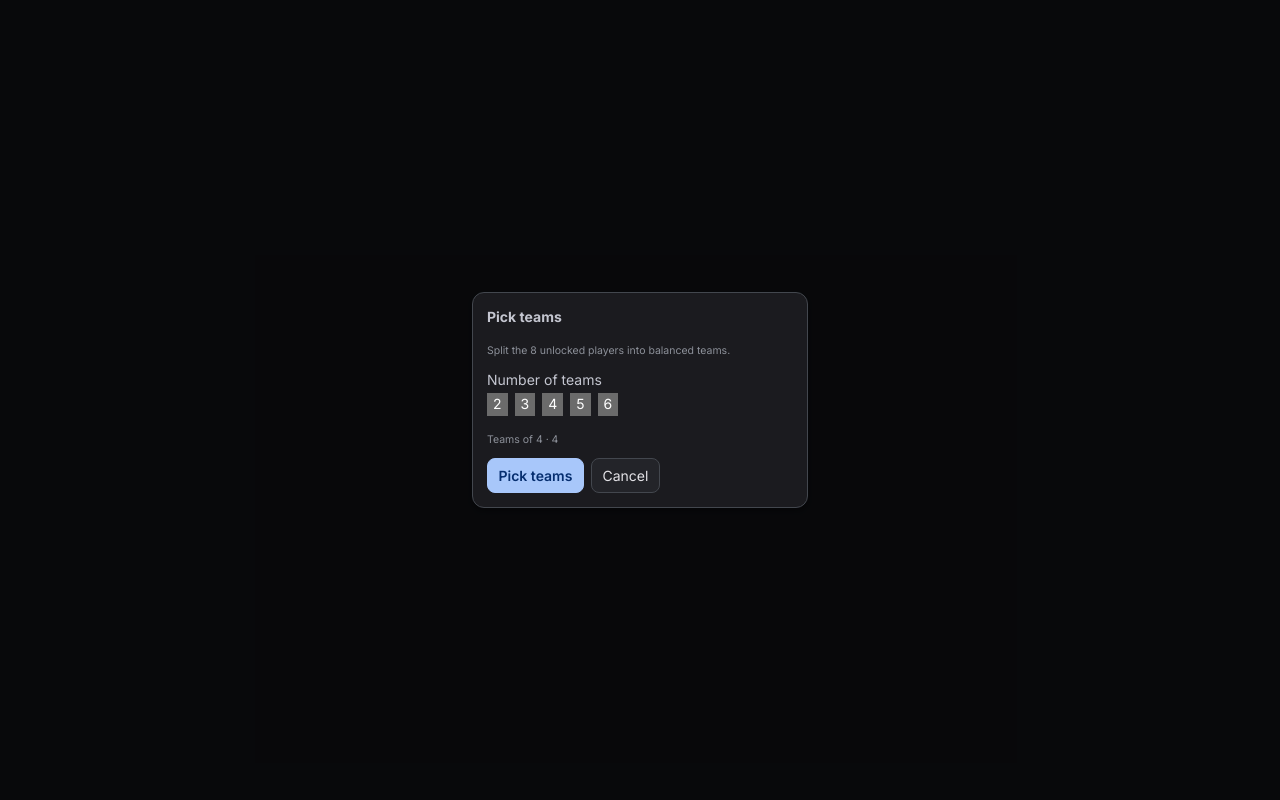
it: BasketballPickTeamsDialog › previews the even split the balancer will produce
Expected: the text "Teams of 4 · 4" is shown, [487, 433, 558, 446]
Click the button "3".
click(525, 405)  # box [514, 394, 535, 416]
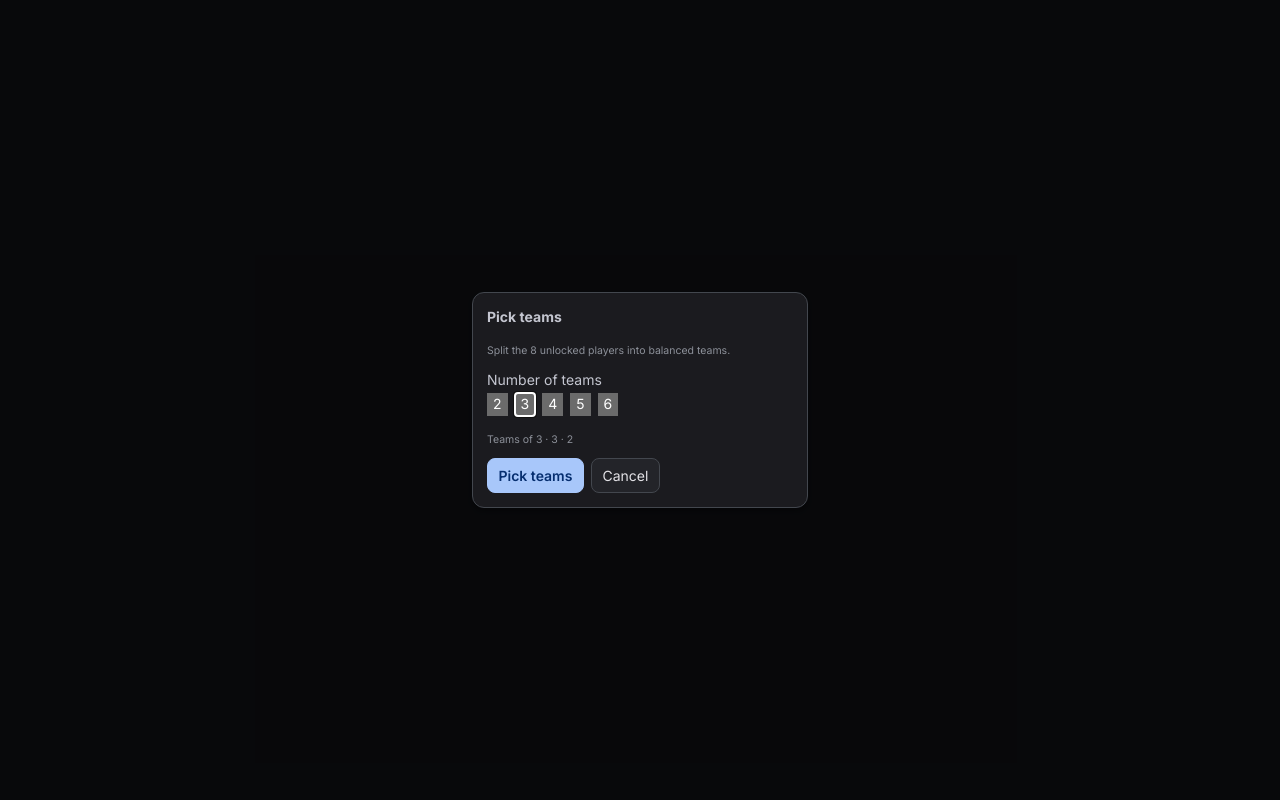
Expected: the text "Teams of 3 · 3 · 2" is shown, [487, 433, 573, 446]
